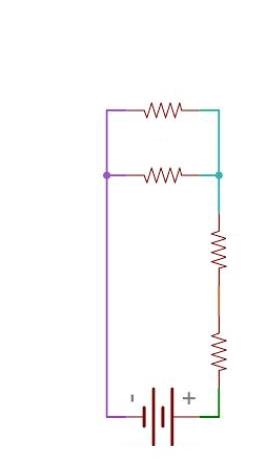resistor: (198, 315, 245, 386), (122, 152, 194, 193), (128, 80, 194, 124), (201, 214, 233, 277)
